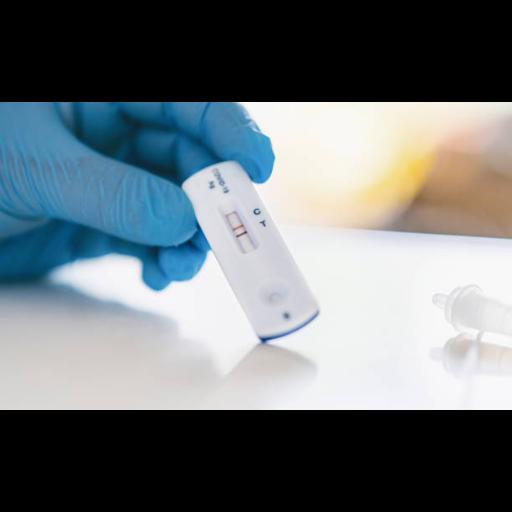Pos: (181, 155, 321, 338)
